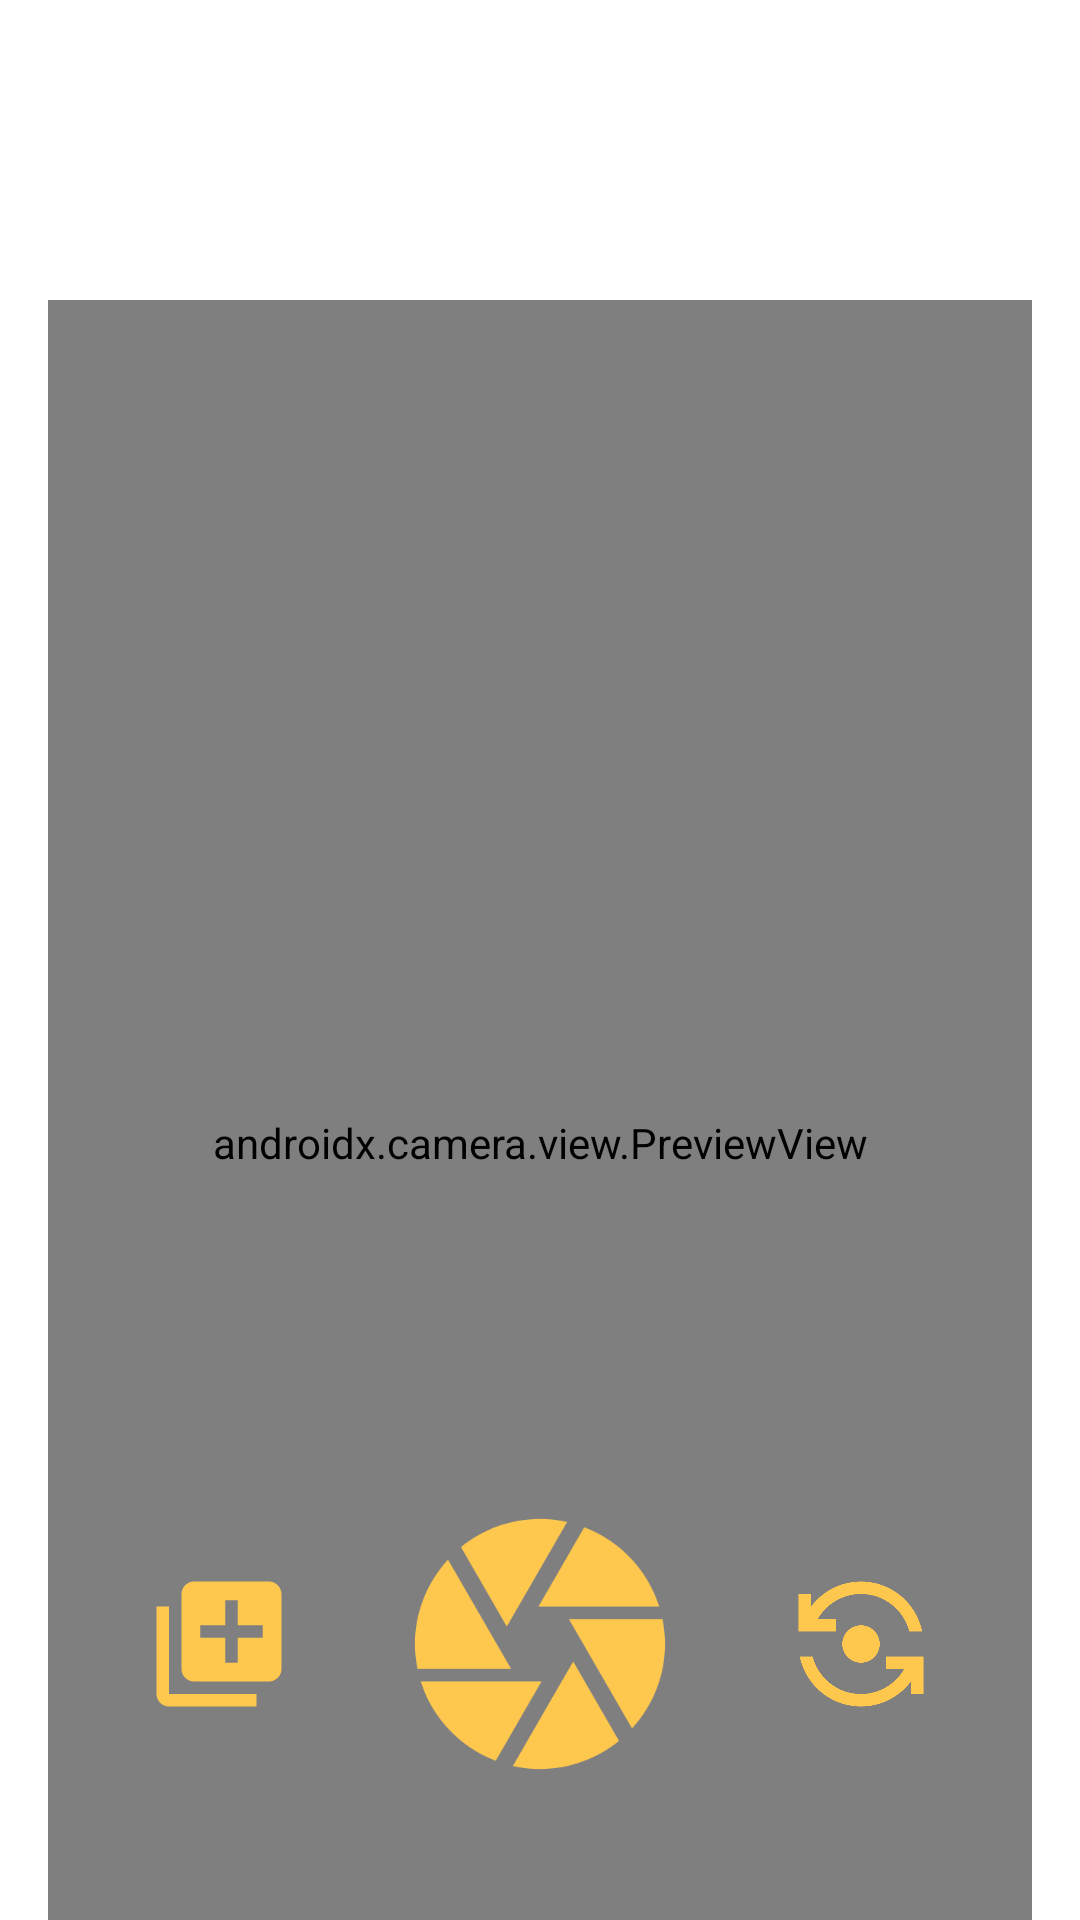

Point at icon controls on the screen. Image size 1080 × 1920, points as (x,y).
Capture image: (540,1644)
Choose front or back camera: (861,1644)
Choose image from galery: (219,1644)
